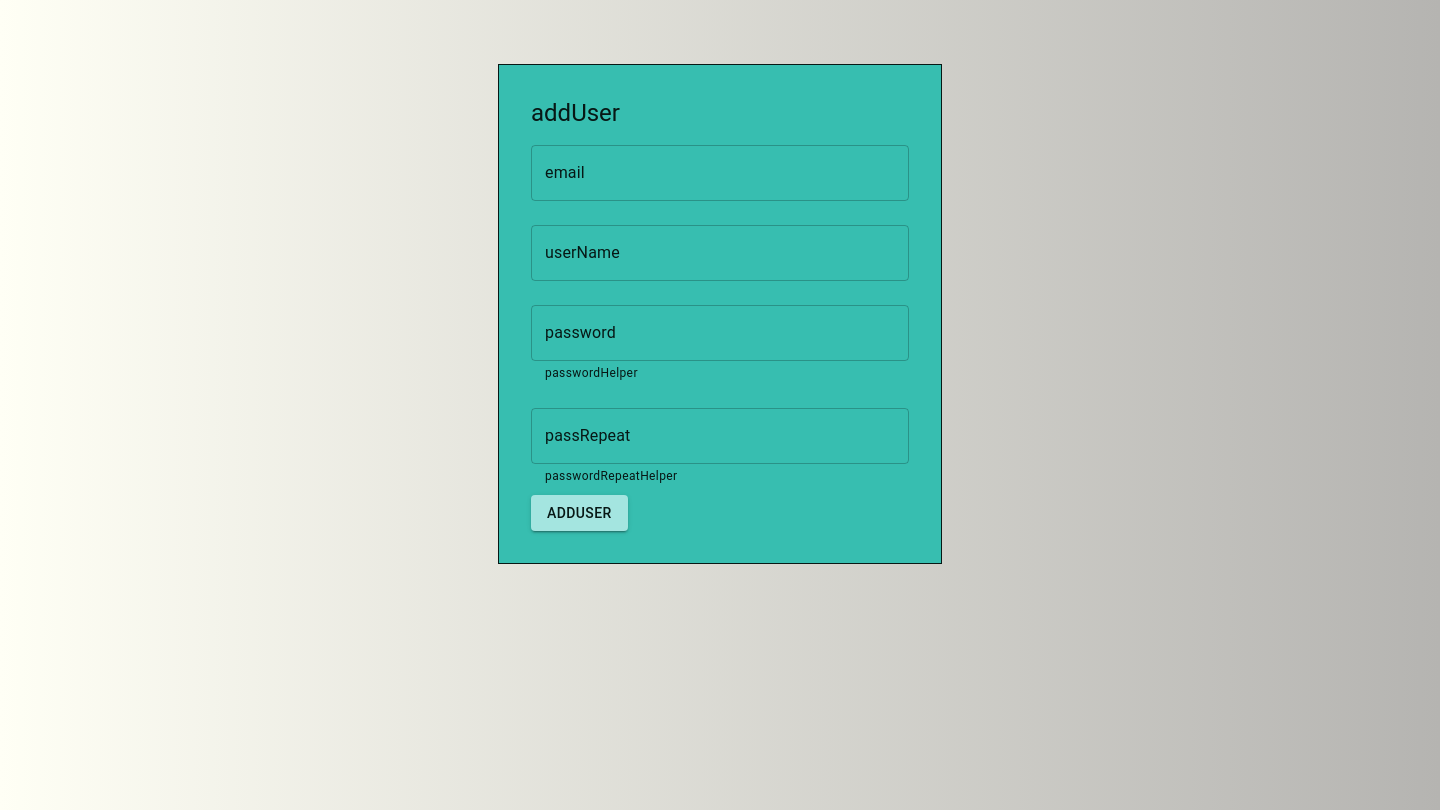
AddUser component › should add user successfully
Type "test@email.com" into the field labelled "email" at {"x": 720, "y": 173}, box [531,145,909,201]
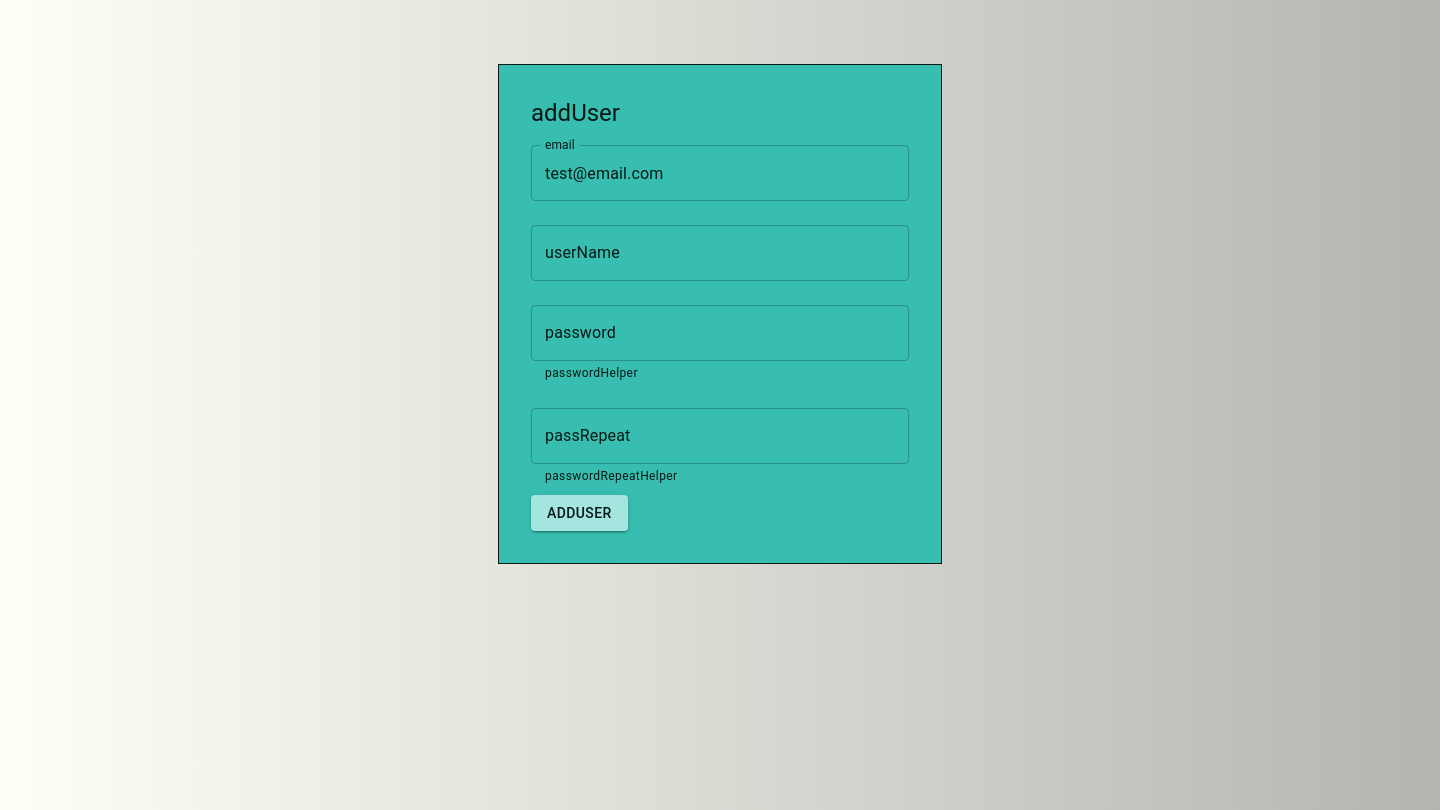
Type "testUser" into the field labelled "userName" at {"x": 720, "y": 253}, box [531,225,909,281]
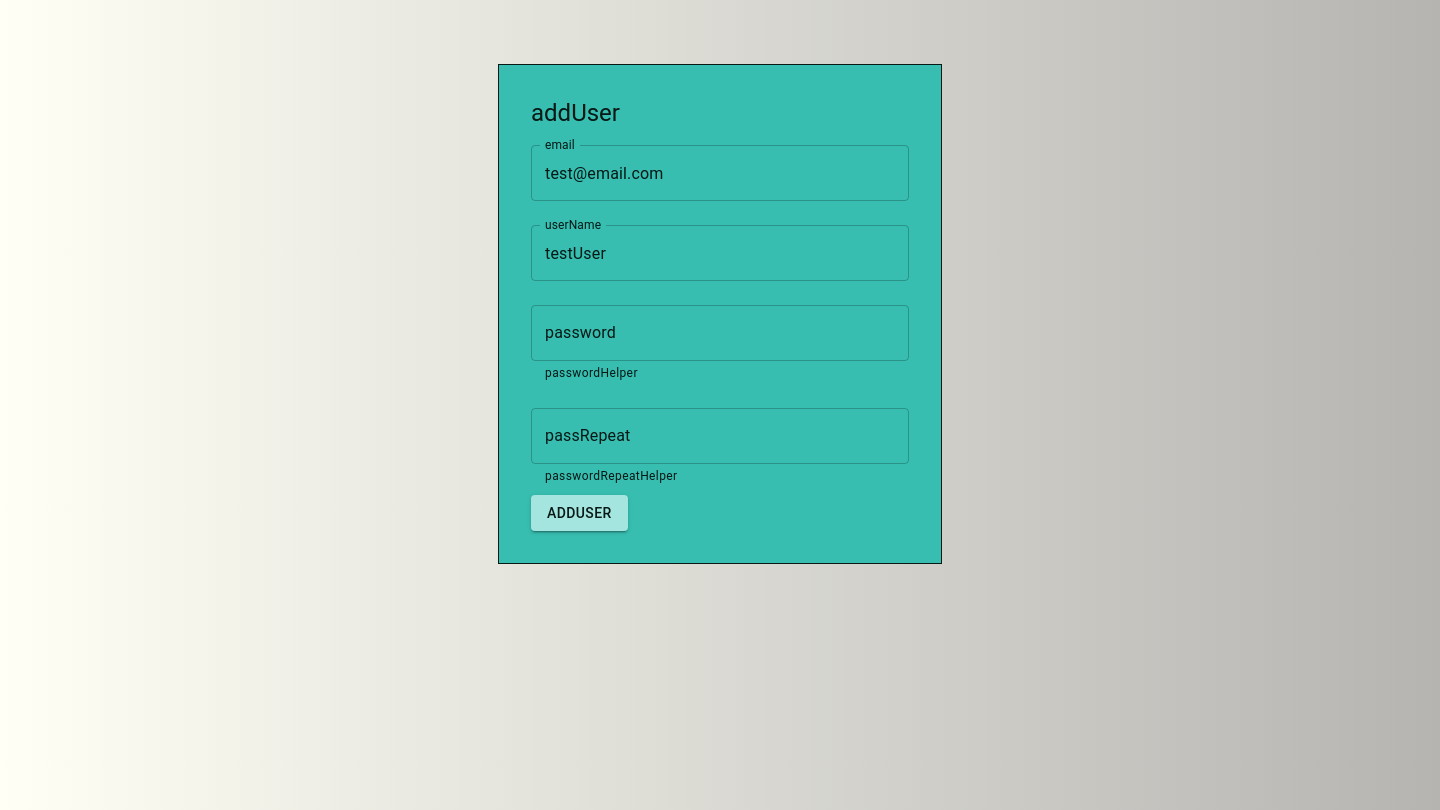
Type "testPassword" into the password field labelled "password" at {"x": 720, "y": 333}, box [531,305,909,361]
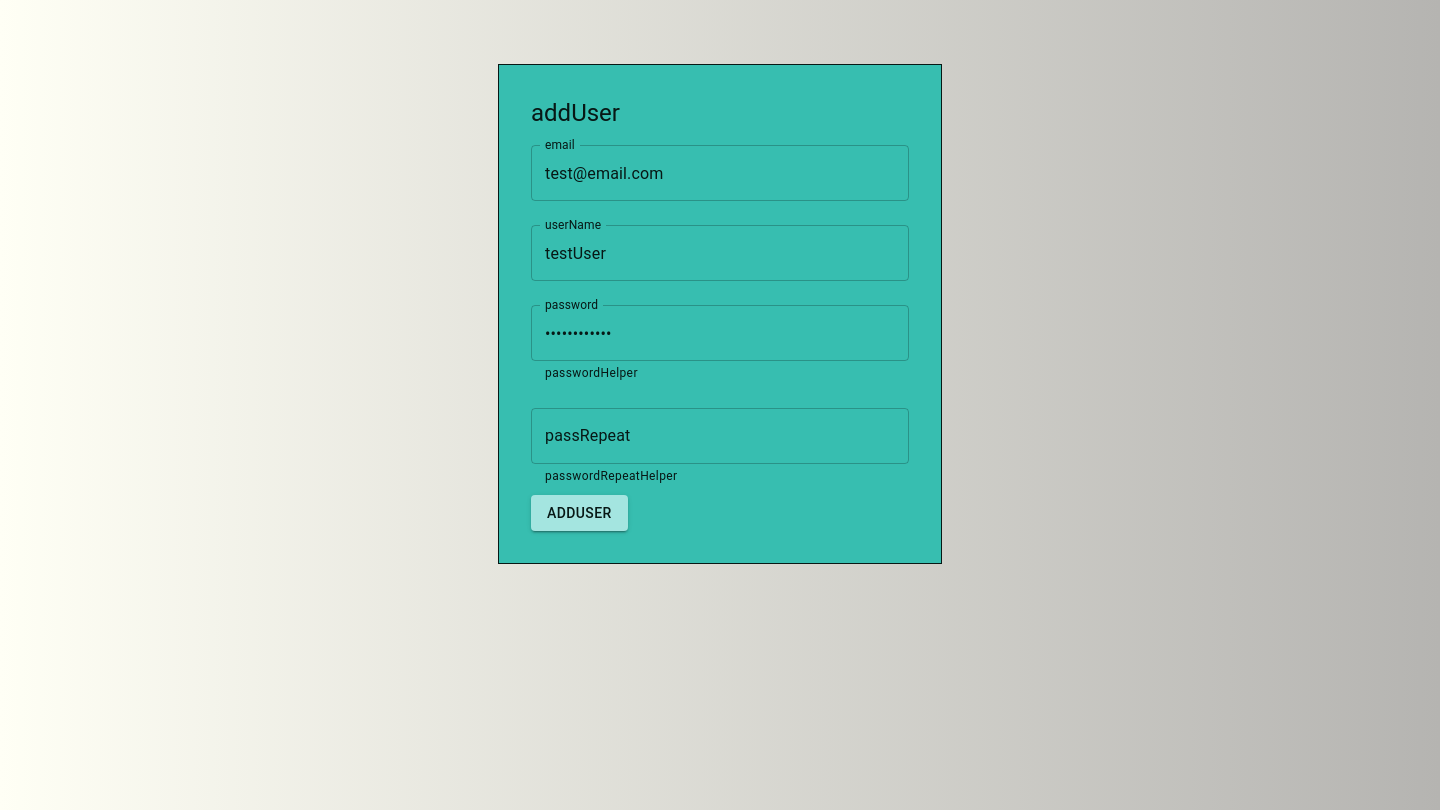
Type "testPassword" into the password field labelled "passRepeat" at {"x": 720, "y": 436}, box [531,408,909,464]
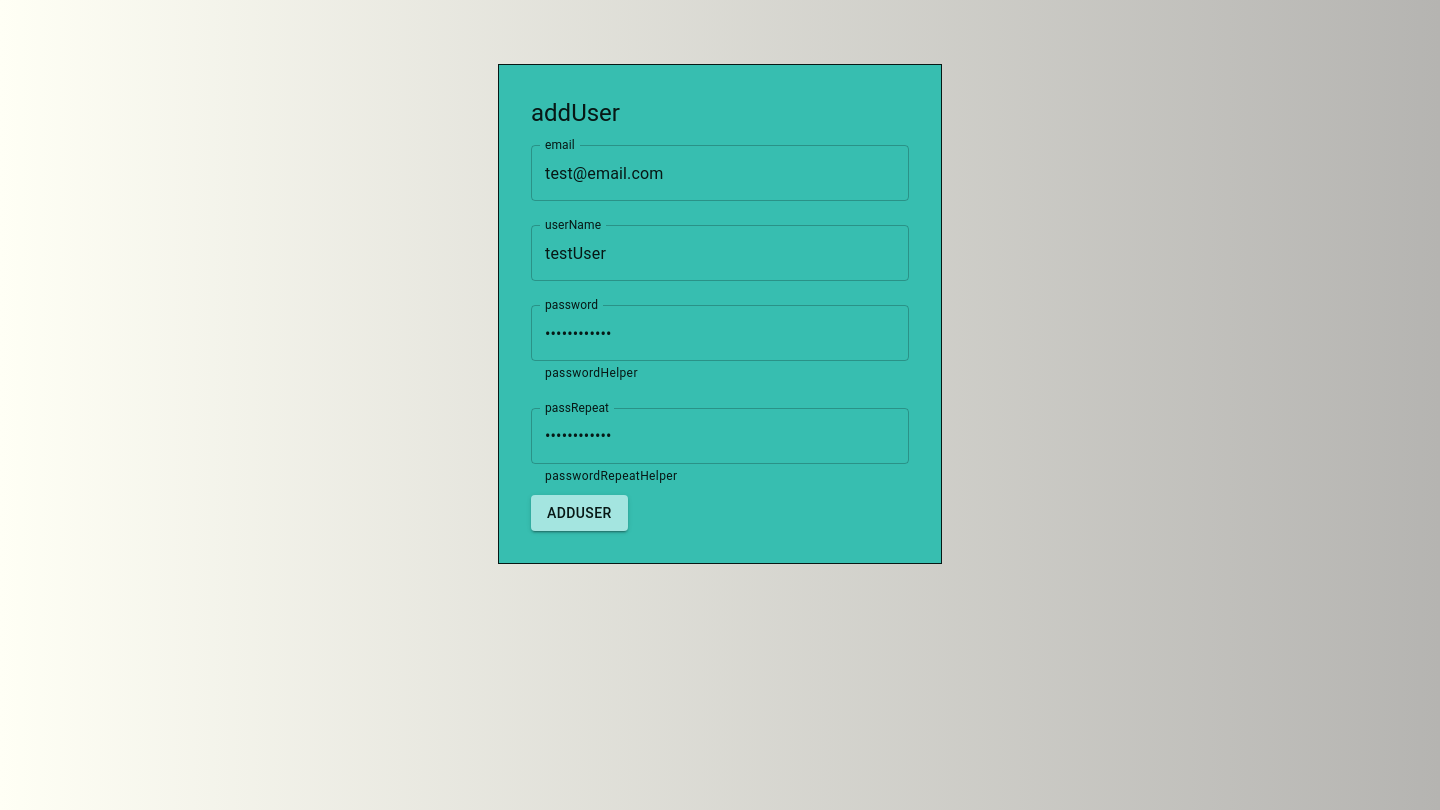
Click the button with id "addRegister" at {"x": 579, "y": 513}, box [531,495,628,531]
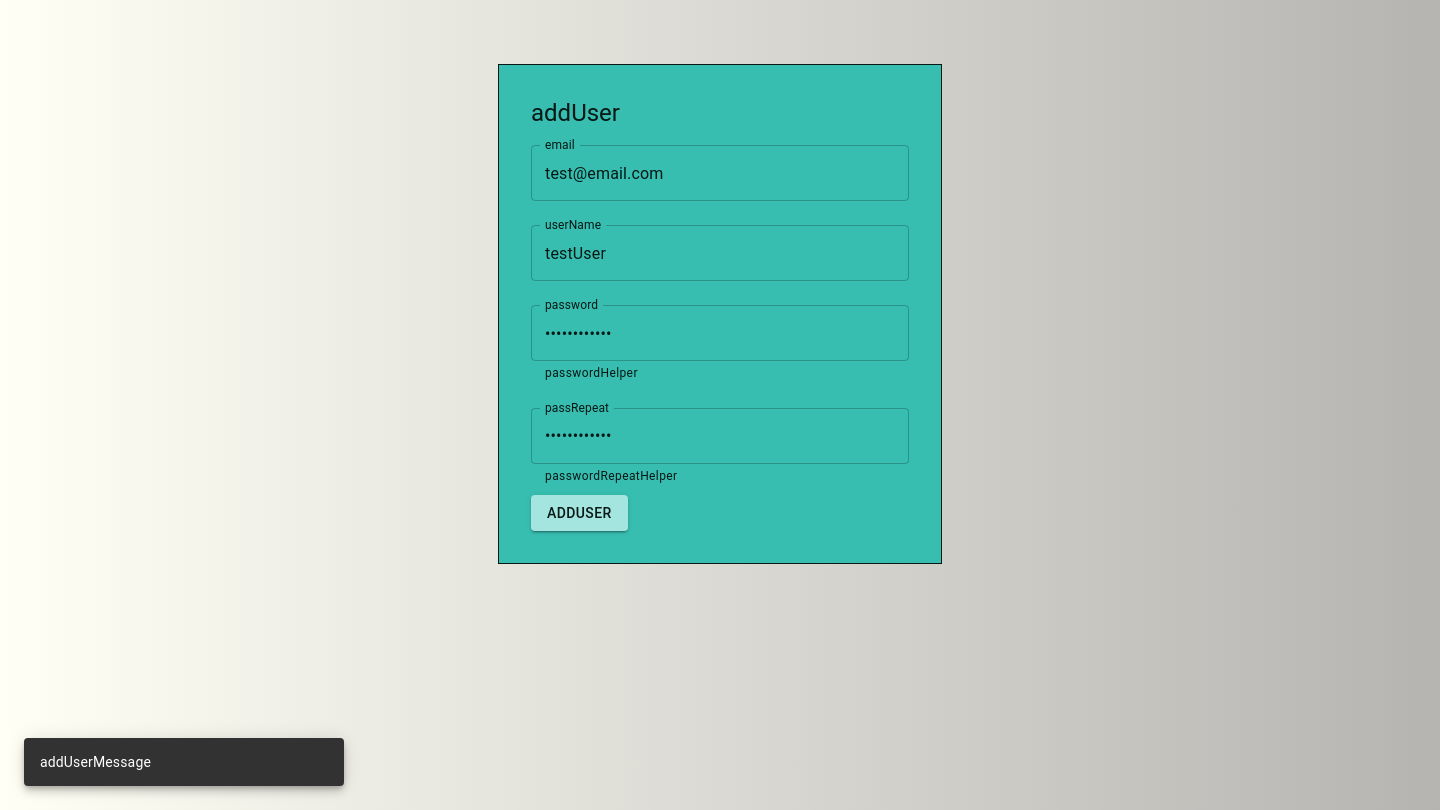
Expected: the element with test id "addMessage" is shown, [24,738,344,786]
